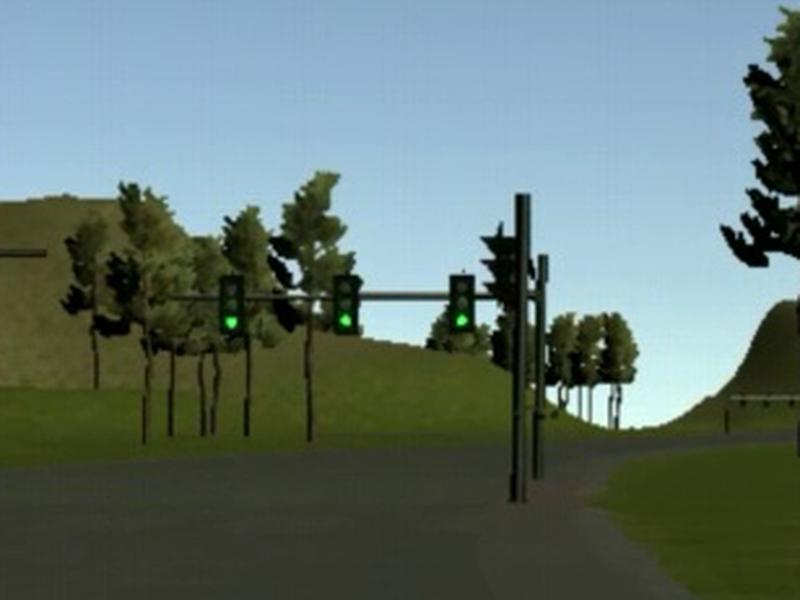Green: (331, 274, 360, 336), (218, 273, 245, 335), (447, 274, 475, 333)
